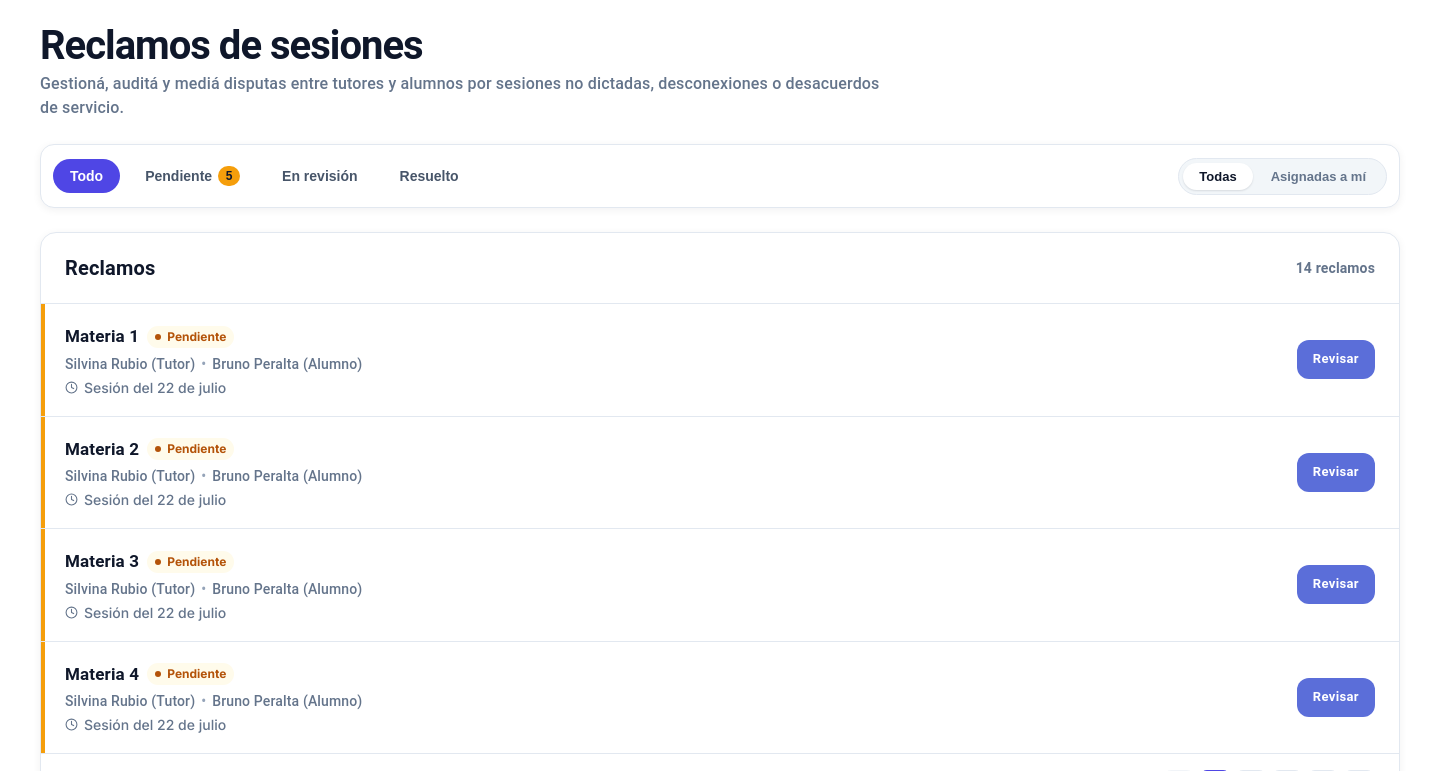
Test: AdminSessionClaimsPage › abre el detalle y guarda la selección en la URL
The width and height of the screenshot is (1440, 771).
Check: the text "Materia 1" is shown, box [65, 324, 139, 350]
Click the button "Revisar" in the row of "Materia 1" at [1336, 360], box [1297, 340, 1375, 379]
(page scrolled)
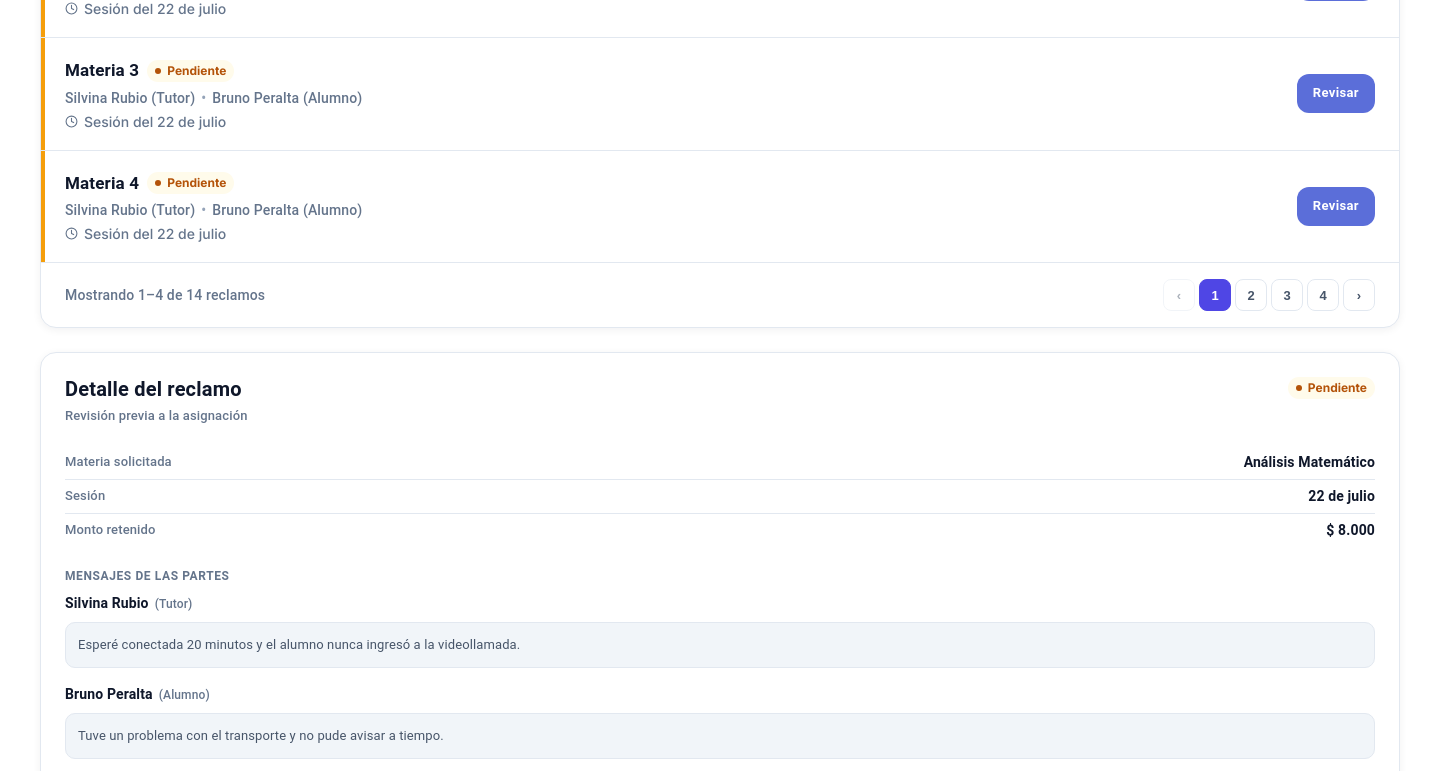
Check: the heading "Detalle del reclamo" is shown, box [65, 377, 242, 402]
